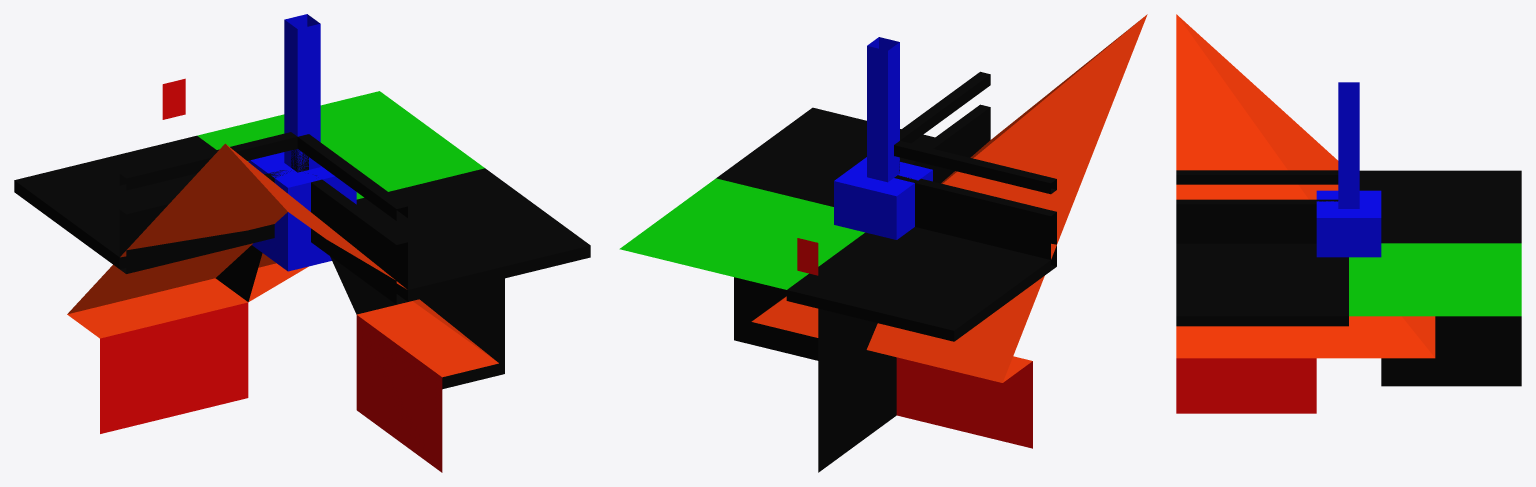
The model's file is None_W_P_E_E_P_S_E_E_BigStrut.fbx.
3 views of the same model, side by side, from view 1: azimuth 30°, elevation 25°; view 2: azimuth 150°, elevation 25°; view 3: azimuth 270°, elevation 25° (orthographic). The views are drawn at different scales.
Parts seen in each view (by area): view 1: None_W_P_E_E_P_S_E_E_BigStrut; view 2: None_W_P_E_E_P_S_E_E_BigStrut; view 3: None_W_P_E_E_P_S_E_E_BigStrut.
Part boxes in pixels (x1,y1,x2,y2): None_W_P_E_E_P_S_E_E_BigStrut: [14, 14, 590, 472]; None_W_P_E_E_P_S_E_E_BigStrut: [619, 14, 1147, 472]; None_W_P_E_E_P_S_E_E_BigStrut: [1176, 14, 1521, 413].
Size of the model in its own units: 100 by 100 by 100.
